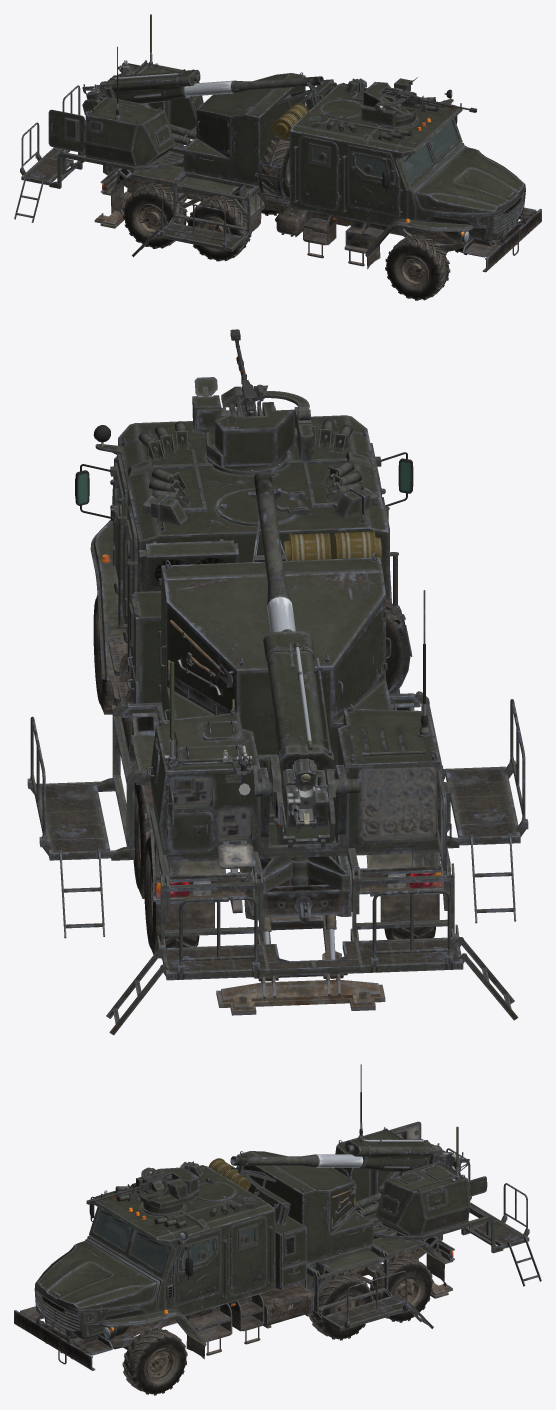
The model's file is 2s40_floks__broken_arrow.glb.
3 views of the same model, one above another, from view 1: azimuth 30°, elevation 25°; view 2: azimuth 150°, elevation 25°; view 3: azimuth 270°, elevation 25° (orthographic). The views are drawn at different scales.
Visible parts, largest first — view 1: Object_2, Object_3, Object_4; view 2: Object_2; view 3: Object_2, Object_3, Object_4.
Boxes of the visible parts, bbox=[...] form: Object_2: bbox=[14, 14, 541, 300]; Object_3: bbox=[312, 120, 458, 182]; Object_4: bbox=[387, 90, 477, 112]; Object_2: bbox=[27, 377, 528, 1035]; Object_2: bbox=[14, 1064, 541, 1395]; Object_3: bbox=[93, 1209, 254, 1272]; Object_4: bbox=[86, 1175, 171, 1204].
Size of the model in its own units: 7.23 by 3.61 by 8.63.
Materials: 3 (2 with a texture image).
